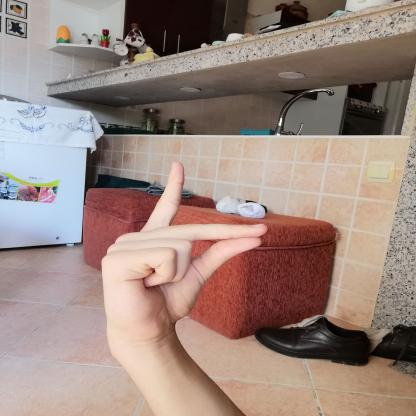TAA: (87, 152, 278, 357)
